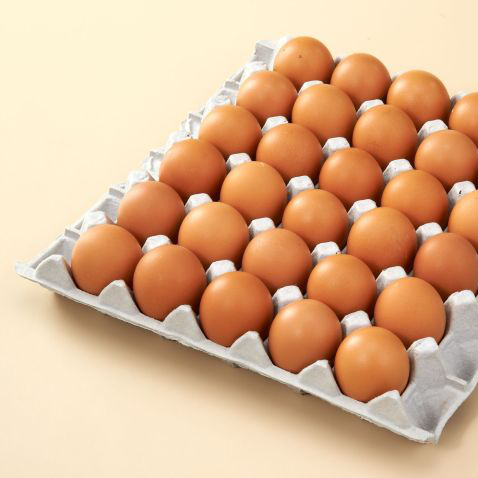egg: (68, 31, 478, 402)
